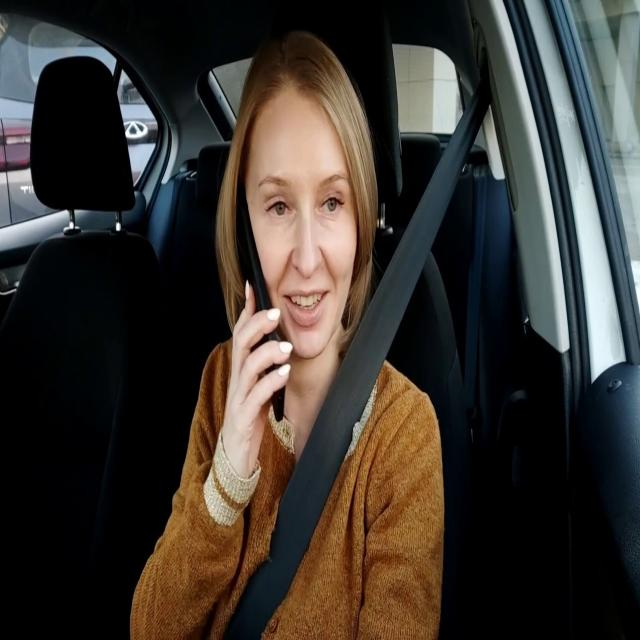phone: (233, 173, 287, 422)
